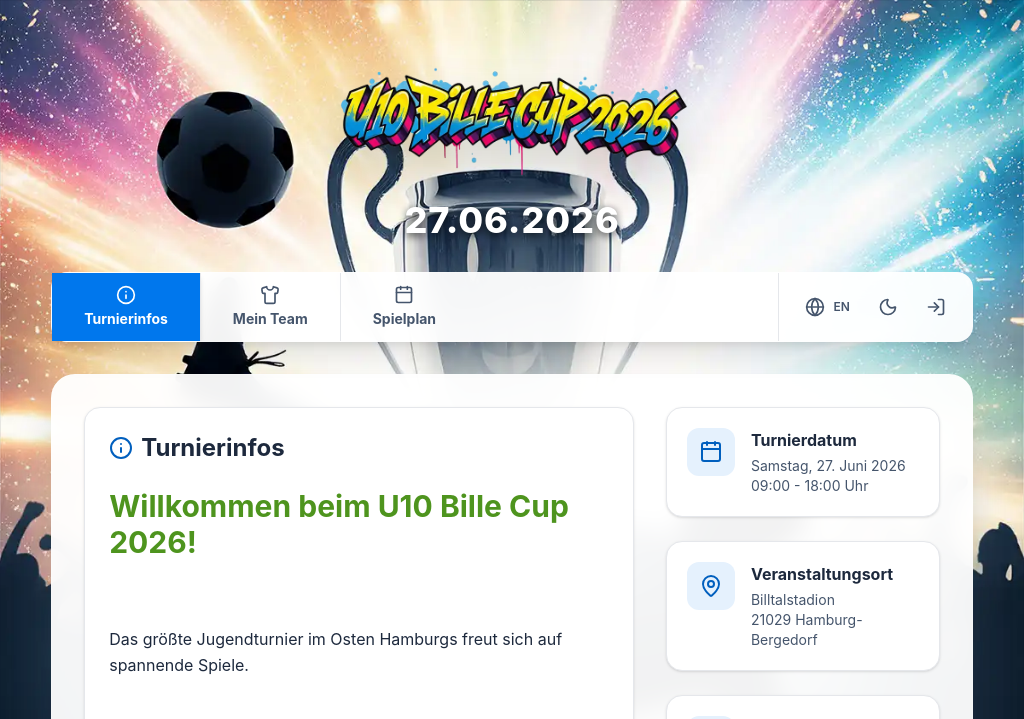
Test: App Hauptkomponente › should open the login modal when the login button is clicked
Click the button named "Admin Login". click: (936, 307)
box: left=916, top=287, right=956, bottom=327
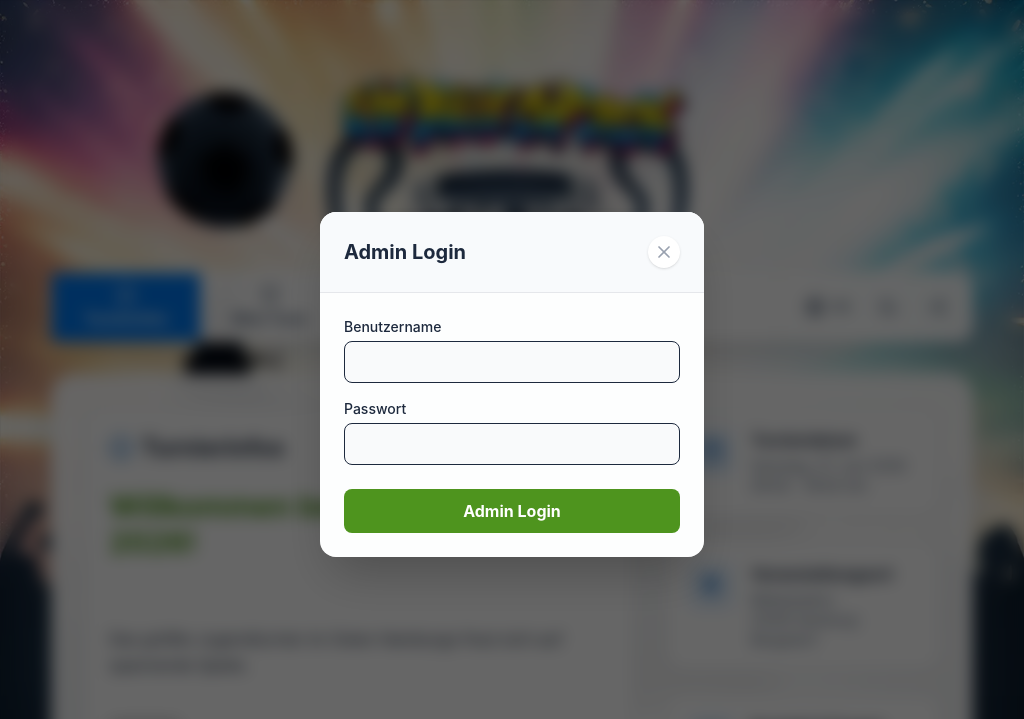
Now the text "Benutzername" is shown, box left=344, top=318, right=442, bottom=334
Now the text "Passwort" is shown, box left=344, top=400, right=406, bottom=416
